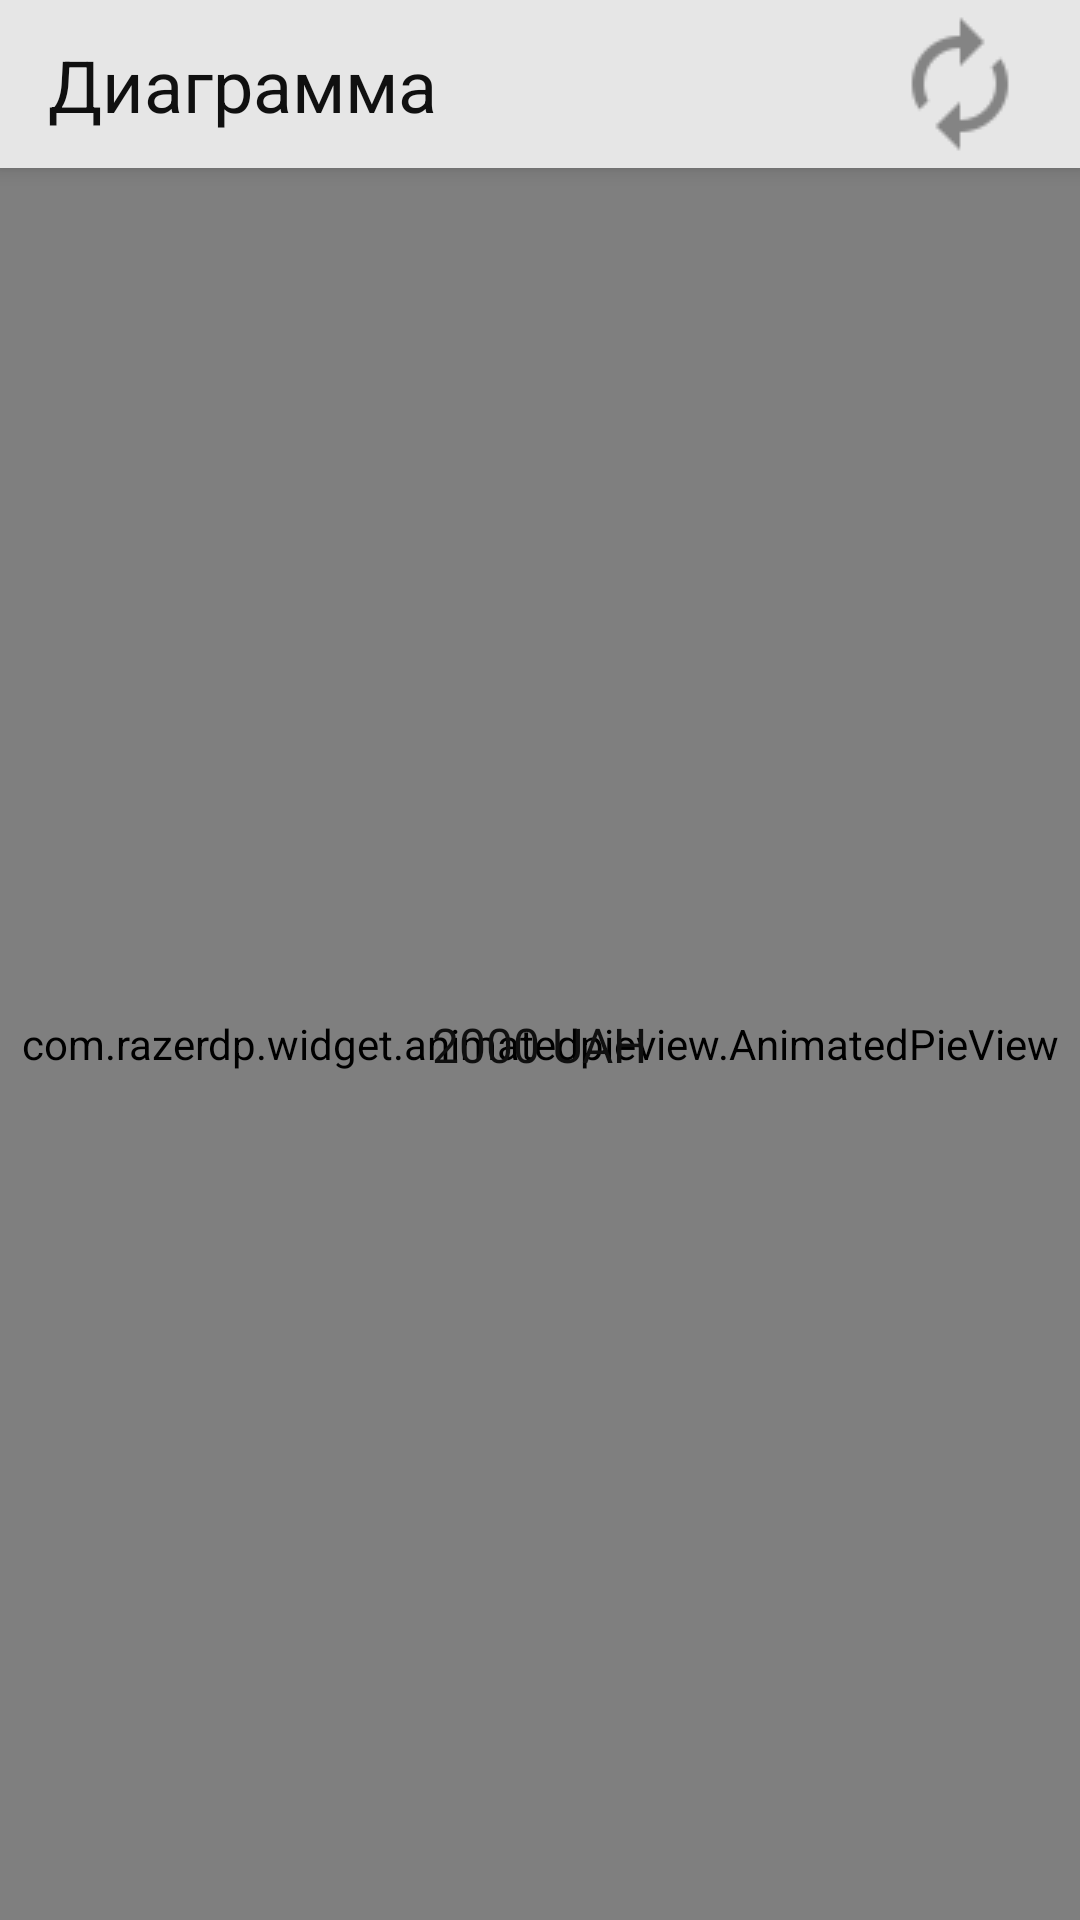

Screen size 1080px×1920px. Icon name, then its box in pixels as Rect(x1, y1, x2, y2):
renew: Rect(911, 18, 1009, 150)
